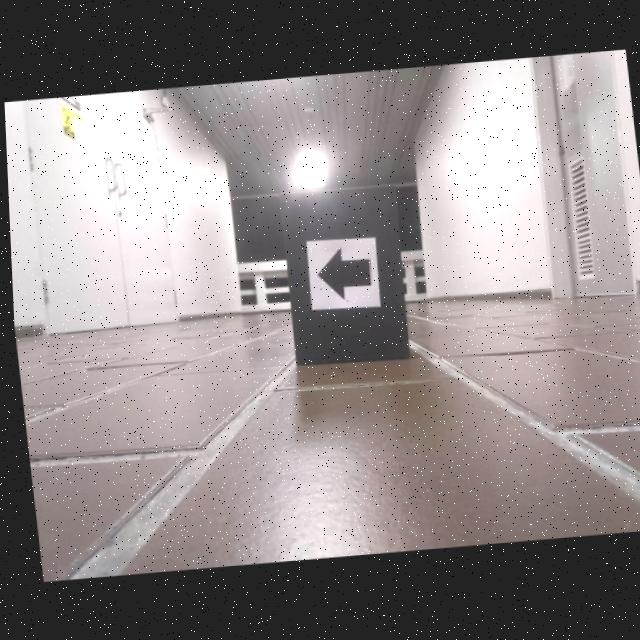LEFT: (315, 247, 369, 302)
